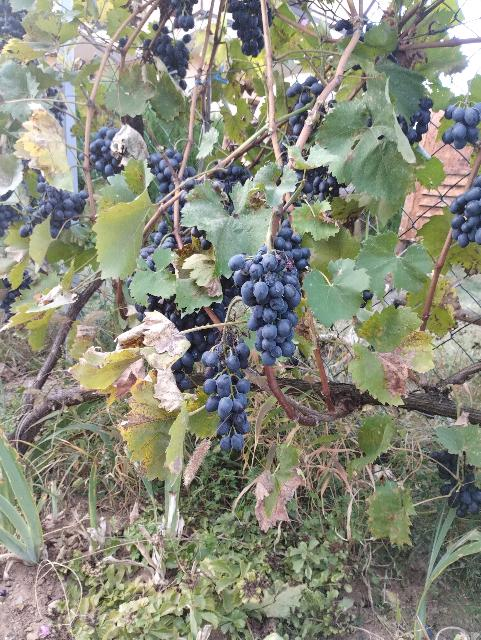grapes: (230, 246, 301, 366), (201, 339, 251, 451), (442, 104, 481, 149)
